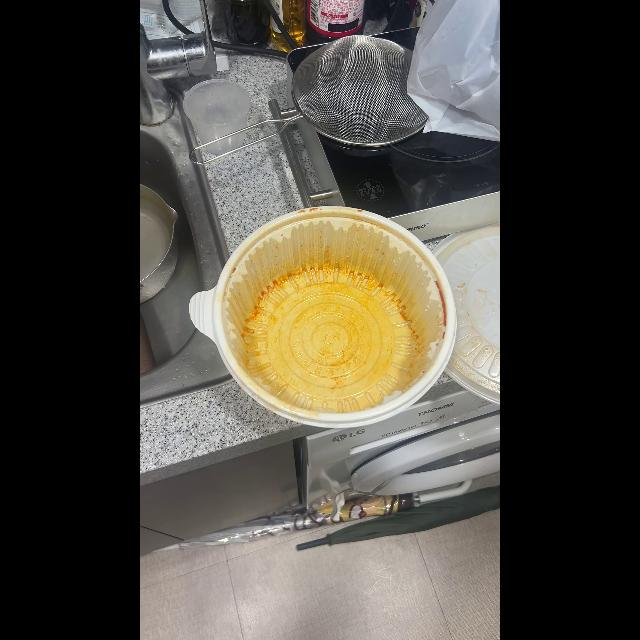dirty: (217, 214, 455, 420)
